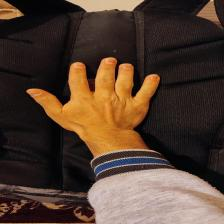five: (28, 56, 165, 132)
